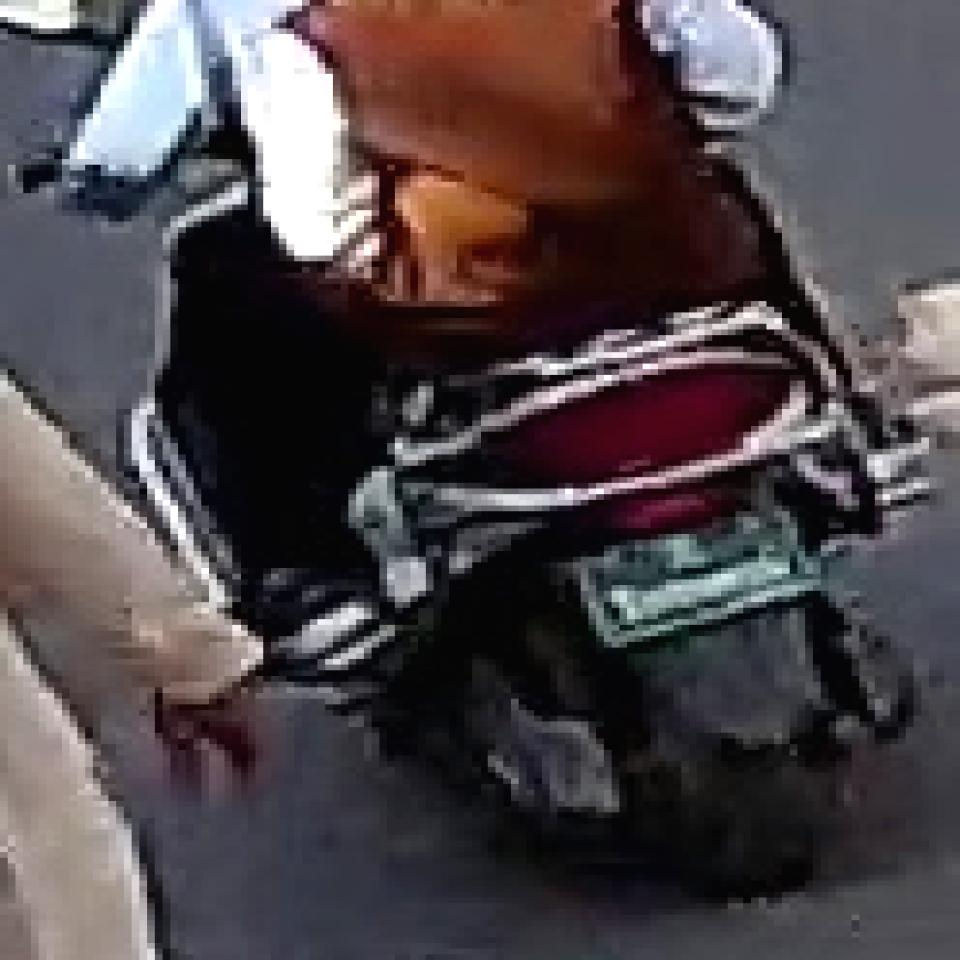tail_light: (484, 372, 769, 499)
